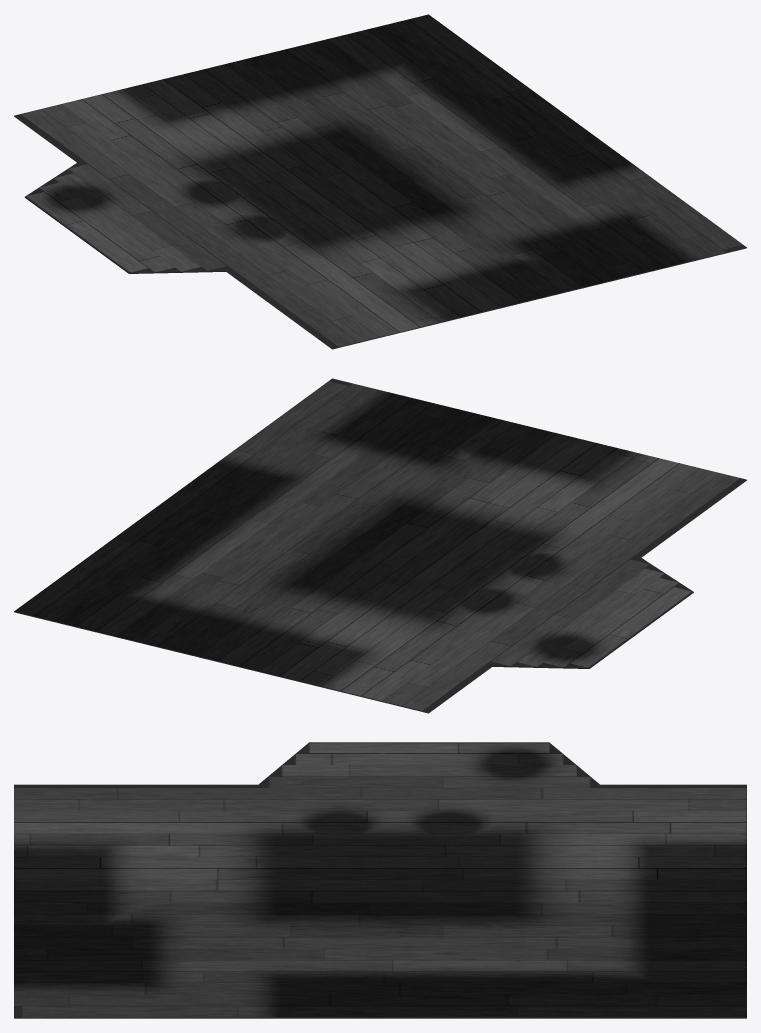
Rendered from Kitchen_Floor.glb.
3 views of the same model, one above another, from view 1: azimuth 30°, elevation 25°; view 2: azimuth 150°, elevation 25°; view 3: azimuth 270°, elevation 25° (orthographic). The views are drawn at different scales.
Parts seen in each view (by area): view 1: root; view 2: root; view 3: root.
Part boxes in pixels (x1=…): root: x1=14, y1=14, x2=746, y2=349; root: x1=14, y1=378, x2=746, y2=713; root: x1=14, y1=742, x2=746, y2=1018.
Size of the model in its own units: 4.53 by 0.00792 by 5.1.
Materials: 2 (1 with a texture image).
